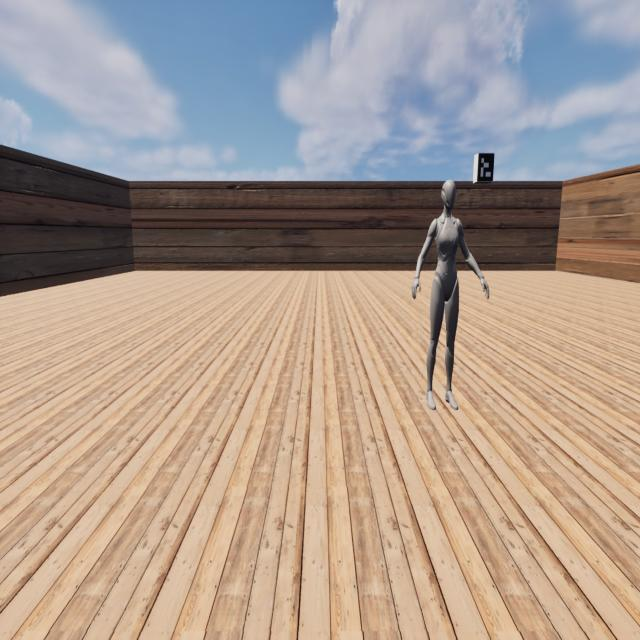aruco: (477, 154, 495, 182)
hip: (432, 278, 459, 287)
